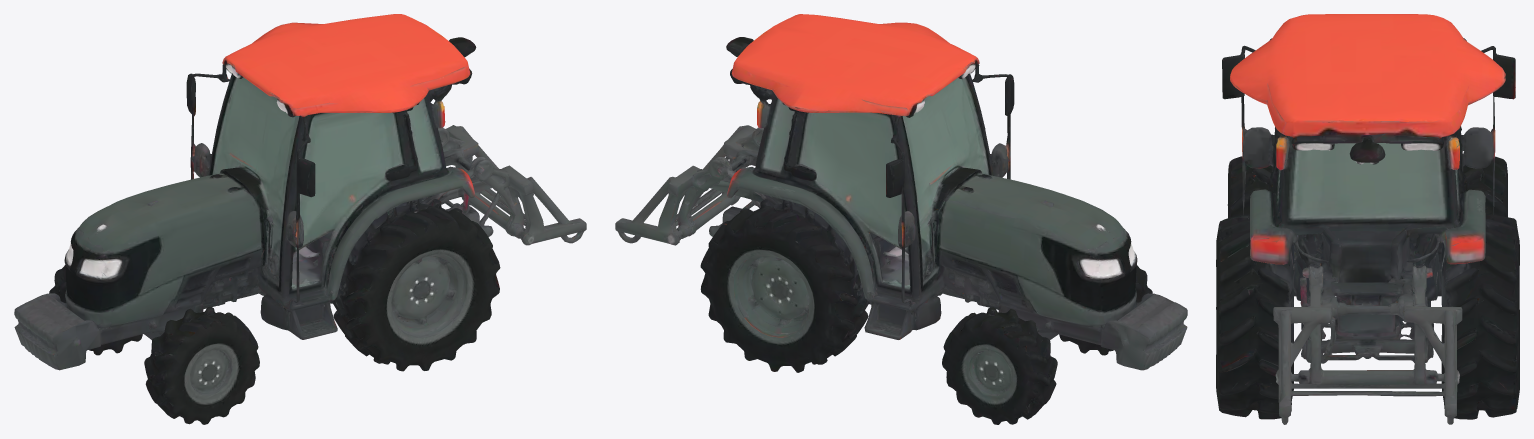
File: tractor-3d.glb
3 views of the same model, side by side, from view 1: azimuth 30°, elevation 25°; view 2: azimuth 150°, elevation 25°; view 3: azimuth 270°, elevation 25° (orthographic). The views are drawn at different scales.
Visible parts, largest first — view 1: Mesh_0; view 2: Mesh_0; view 3: Mesh_0.
Boxes of the visible parts, bbox=[...] form: Mesh_0: bbox=[14, 14, 586, 424]; Mesh_0: bbox=[615, 14, 1187, 424]; Mesh_0: bbox=[1216, 14, 1519, 424].
Bounding box in the file's own units: 1.91 × 1 × 0.8141.
1 material, 1 textured.
